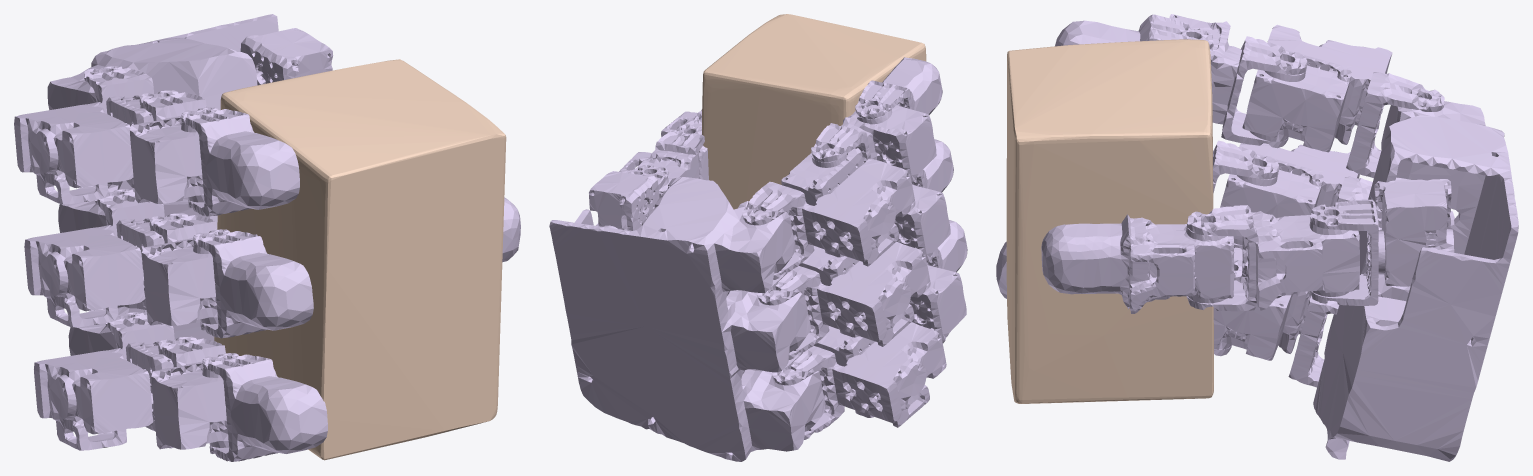
Rendered from 290395d019c24d-closed.glb.
3 renders of one model, left to right at view 1: azimuth 30°, elevation 25°; view 2: azimuth 150°, elevation 25°; view 3: azimuth 270°, elevation 25°, orthographic. The views are drawn at different scales.
Parts seen in each view (by area): view 1: LEAP_hand, world; view 2: LEAP_hand, world; view 3: LEAP_hand, world.
Boxes of the visible parts, left/top/right/bottom form: LEAP_hand: left=14, top=14, right=520, bottom=461; world: left=214, top=59, right=506, bottom=460; LEAP_hand: left=549, top=57, right=967, bottom=461; world: left=702, top=14, right=926, bottom=209; LEAP_hand: left=996, top=14, right=1518, bottom=461; world: left=1006, top=39, right=1213, bottom=403.
Bounding box in the file's own units: 0.1541 × 0.1536 × 0.1958.
